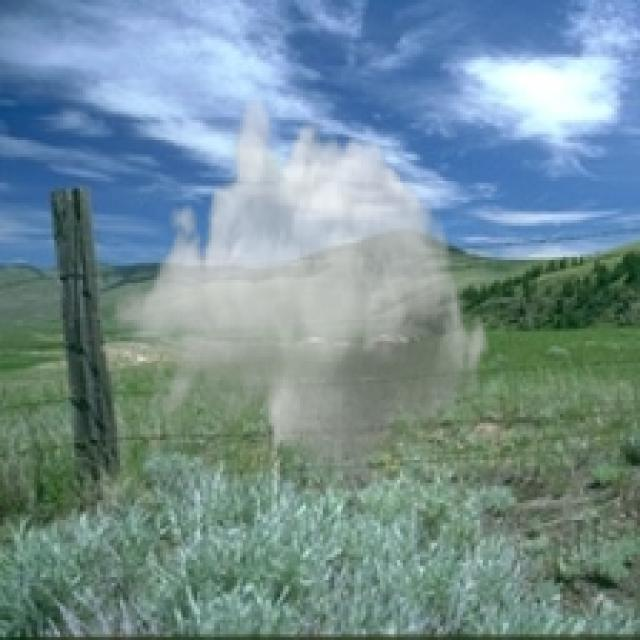smoke: (112, 94, 494, 497)
